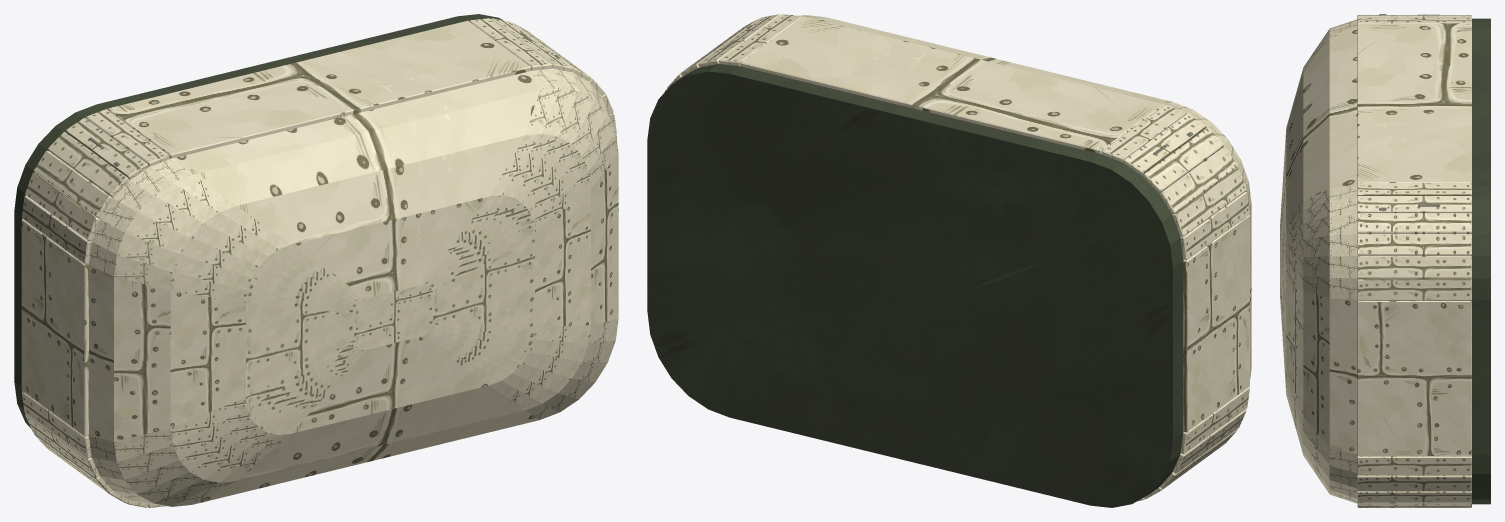
The model's file is ECHO7_19_Observatorio_Comunicaciones.obj.
3 views of the same model, side by side, from view 1: azimuth 30°, elevation 25°; view 2: azimuth 150°, elevation 25°; view 3: azimuth 270°, elevation 25° (orthographic). The views are drawn at different scales.
Parts seen in each view (by area): view 1: ECHO7_19_Observatorio_Comunicaciones__Pared_presion_07, ECHO7_19_Observatorio_Comunicaciones__Techo_curvo_35, ECHO7_19_Observatorio_Comunicaciones__Techo_curvo_63, ECHO7_19_Observatorio_Comunicaciones__Pared_presion_14, ECHO7_19_Observatorio_Comunicaciones__Techo_curvo_91, ECHO7_19_Observatorio_Comunicaciones__Techo_curvo_70, ECHO7_19_Observatorio_Comunicaciones__Techo_curvo_42, ECHO7_19_Observatorio_Comunicaciones__Techo_curvo_77, ECHO7_19_Observatorio_Comunicaciones__Techo_curvo_105, ECHO7_19_Observatorio_Comunicaciones__Techo_curvo_07, ECHO7_19_Observatorio_Comunicaciones__Techo_curvo_98, ECHO7_19_Observatorio_Comunicaciones__Techo_curvo_84 (+78 smaller); view 2: ECHO7_19_Observatorio_Comunicaciones__Suelo_modulo_01, ECHO7_19_Observatorio_Comunicaciones__Pared_presion_07, ECHO7_19_Observatorio_Comunicaciones__Pared_presion_14, ECHO7_19_Observatorio_Comunicaciones__Pared_presion_11, ECHO7_19_Observatorio_Comunicaciones__Pared_presion_10, ECHO7_19_Observatorio_Comunicaciones__Pared_presion_12, ECHO7_19_Observatorio_Comunicaciones__Pared_presion_09, ECHO7_19_Observatorio_Comunicaciones__Techo_curvo_07, ECHO7_19_Observatorio_Comunicaciones__Pared_presion_13, ECHO7_19_Observatorio_Comunicaciones__Pared_presion_08, ECHO7_19_Observatorio_Comunicaciones__Pared_presion_15, ECHO7_19_Observatorio_Comunicaciones__Pared_presion_06 (+2 smaller); view 3: ECHO7_19_Observatorio_Comunicaciones__Pared_presion_07, ECHO7_19_Observatorio_Comunicaciones__Pared_presion_27, ECHO7_19_Observatorio_Comunicaciones__Suelo_modulo_01, ECHO7_19_Observatorio_Comunicaciones__Techo_curvo_07, ECHO7_19_Observatorio_Comunicaciones__Techo_curvo_28, ECHO7_19_Observatorio_Comunicaciones__Techo_curvo_35, ECHO7_19_Observatorio_Comunicaciones__Techo_curvo_56, ECHO7_19_Observatorio_Comunicaciones__Pared_presion_01, ECHO7_19_Observatorio_Comunicaciones__Pared_presion_02, ECHO7_19_Observatorio_Comunicaciones__Pared_presion_03, ECHO7_19_Observatorio_Comunicaciones__Pared_presion_04, ECHO7_19_Observatorio_Comunicaciones__Pared_presion_26 (+33 smaller).
Part boxes in pixels (x1,y1,x2,y2): ECHO7_19_Observatorio_Comunicaciones__Pared_presion_07: (107, 20, 531, 158); ECHO7_19_Observatorio_Comunicaciones__Techo_curvo_35: (193, 90, 539, 205); ECHO7_19_Observatorio_Comunicaciones__Techo_curvo_63: (237, 135, 525, 244); ECHO7_19_Observatorio_Comunicaciones__Pared_presion_14: (21, 219, 88, 436); ECHO7_19_Observatorio_Comunicaciones__Techo_curvo_91: (291, 196, 489, 298); ECHO7_19_Observatorio_Comunicaciones__Techo_curvo_70: (170, 290, 245, 427); ECHO7_19_Observatorio_Comunicaciones__Techo_curvo_42: (114, 276, 170, 441); ECHO7_19_Observatorio_Comunicaciones__Techo_curvo_77: (237, 385, 524, 480); ECHO7_19_Observatorio_Comunicaciones__Techo_curvo_105: (291, 337, 489, 433); ECHO7_19_Observatorio_Comunicaciones__Techo_curvo_07: (171, 71, 539, 174); ECHO7_19_Observatorio_Comunicaciones__Techo_curvo_98: (246, 303, 354, 397); ECHO7_19_Observatorio_Comunicaciones__Techo_curvo_84: (535, 188, 590, 326); ECHO7_19_Observatorio_Comunicaciones__Suelo_modulo_01: (647, 64, 1183, 507); ECHO7_19_Observatorio_Comunicaciones__Pared_presion_07: (740, 16, 1164, 154); ECHO7_19_Observatorio_Comunicaciones__Pared_presion_14: (1183, 215, 1249, 432); ECHO7_19_Observatorio_Comunicaciones__Pared_presion_11: (1159, 146, 1237, 214); ECHO7_19_Observatorio_Comunicaciones__Pared_presion_10: (1143, 128, 1223, 193); ECHO7_19_Observatorio_Comunicaciones__Pared_presion_12: (1172, 168, 1246, 236); ECHO7_19_Observatorio_Comunicaciones__Pared_presion_09: (1123, 113, 1206, 175); ECHO7_19_Observatorio_Comunicaciones__Techo_curvo_07: (814, 17, 1172, 105); ECHO7_19_Observatorio_Comunicaciones__Pared_presion_13: (1180, 191, 1249, 260); ECHO7_19_Observatorio_Comunicaciones__Pared_presion_08: (1101, 105, 1185, 162); ECHO7_19_Observatorio_Comunicaciones__Pared_presion_15: (1180, 387, 1249, 454); ECHO7_19_Observatorio_Comunicaciones__Pared_presion_06: (719, 14, 802, 65); ECHO7_19_Observatorio_Comunicaciones__Pared_presion_07: (1357, 23, 1471, 183); ECHO7_19_Observatorio_Comunicaciones__Pared_presion_27: (1357, 300, 1471, 456); ECHO7_19_Observatorio_Comunicaciones__Suelo_modulo_01: (1472, 18, 1490, 504); ECHO7_19_Observatorio_Comunicaciones__Techo_curvo_07: (1329, 27, 1357, 188); ECHO7_19_Observatorio_Comunicaciones__Techo_curvo_28: (1329, 298, 1357, 454); ECHO7_19_Observatorio_Comunicaciones__Techo_curvo_35: (1303, 36, 1329, 200); ECHO7_19_Observatorio_Comunicaciones__Techo_curvo_56: (1303, 292, 1329, 446); ECHO7_19_Observatorio_Comunicaciones__Pared_presion_01: (1357, 278, 1471, 300); ECHO7_19_Observatorio_Comunicaciones__Pared_presion_02: (1357, 256, 1471, 278); ECHO7_19_Observatorio_Comunicaciones__Pared_presion_03: (1357, 233, 1471, 255); ECHO7_19_Observatorio_Comunicaciones__Pared_presion_04: (1357, 213, 1471, 233); ECHO7_19_Observatorio_Comunicaciones__Pared_presion_26: (1357, 456, 1471, 475).
Size of the model in its own units: 16.22 by 10.35 by 6.15.
7 materials, 7 textured.
